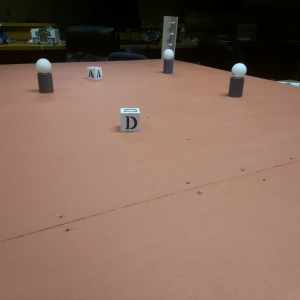blockA: (87, 66, 102, 81)
blockD: (120, 107, 141, 132)
corner: (162, 13, 178, 57)
obstacle: (229, 60, 247, 98), (36, 57, 53, 92), (163, 50, 175, 73)
